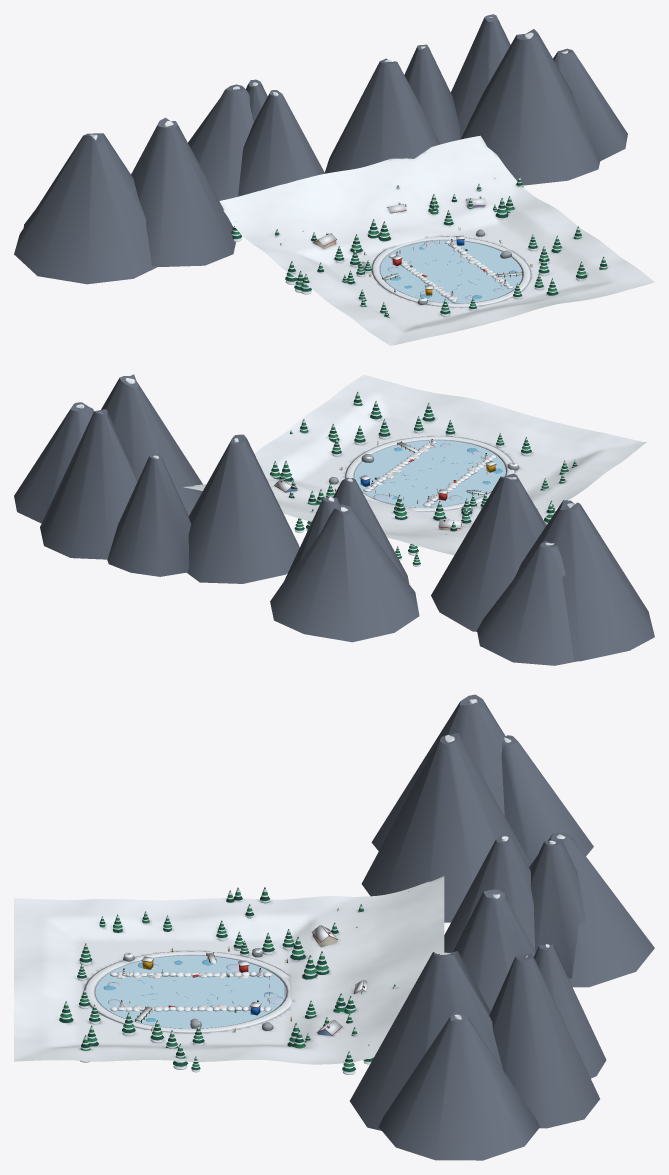
The model's file is map_lake.glb.
3 views of the same model, one above another, from view 1: azimuth 30°, elevation 25°; view 2: azimuth 150°, elevation 25°; view 3: azimuth 270°, elevation 25° (orthographic). The views are drawn at different scales.
Parts seen in each view (by area): view 1: env, ice; view 2: env, ice; view 3: env, ice.
Part boxes in pixels (x1=…): env: x1=14, y1=14, x2=654, y2=345; ice: x1=380, y1=240, x2=522, y2=303; env: x1=14, y1=374, x2=654, y2=665; ice: x1=354, y1=440, x2=505, y2=507; env: x1=14, y1=694, x2=654, y2=1160; ice: x1=95, y1=955, x2=284, y2=1028.
Bounding box in the file's own units: 177 × 35.96 × 134.
3 materials, 3 textured.
